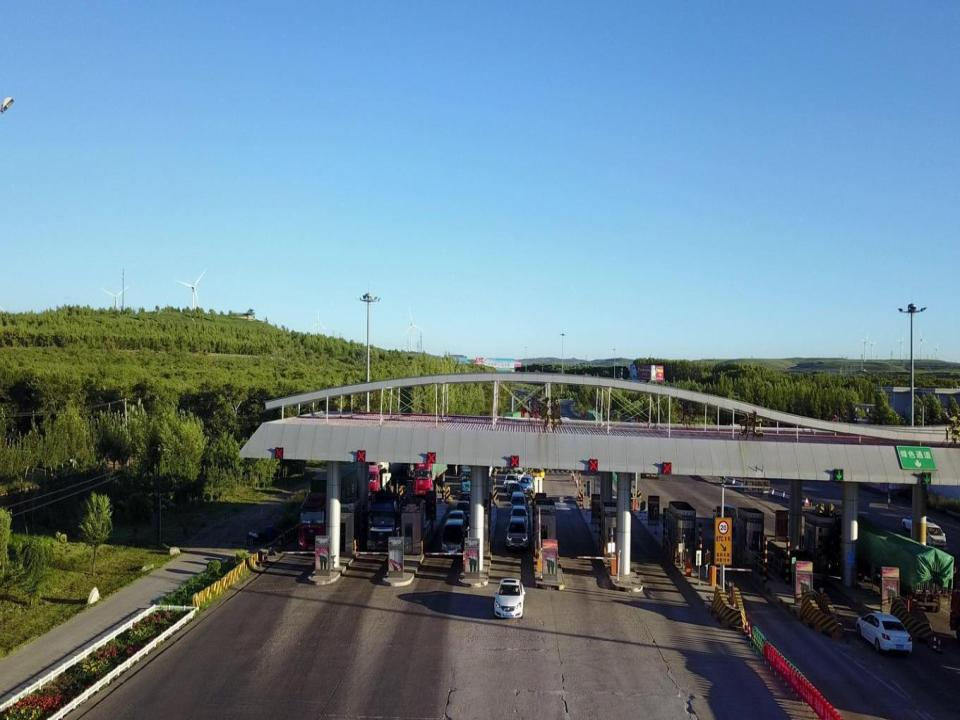car: (856, 613, 913, 655), (494, 579, 525, 618), (912, 523, 947, 550), (441, 518, 464, 554), (505, 518, 528, 552), (902, 513, 937, 535), (713, 503, 737, 530), (448, 509, 465, 544), (510, 506, 529, 529), (459, 492, 471, 520), (511, 492, 525, 514), (455, 501, 470, 521), (520, 476, 534, 496), (504, 472, 520, 489), (508, 484, 522, 500), (531, 467, 545, 481), (513, 467, 525, 483), (629, 417, 637, 423)
truck: (834, 518, 953, 614), (300, 463, 368, 549), (369, 481, 414, 548), (363, 444, 406, 492), (414, 455, 449, 493), (459, 461, 477, 494), (501, 411, 522, 432), (585, 410, 602, 428)
